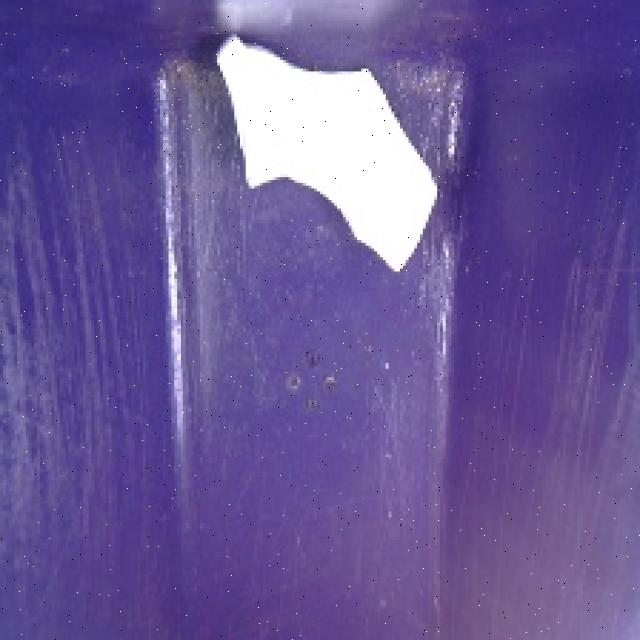china: (207, 20, 444, 284)
